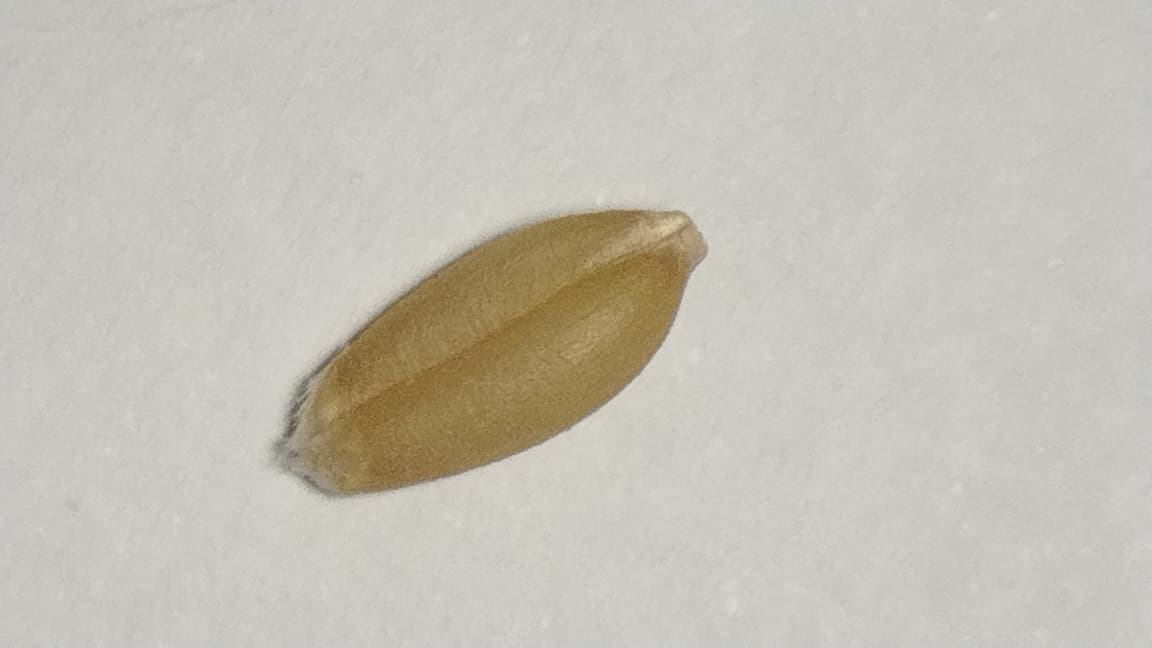healthy: (292, 211, 705, 490)
